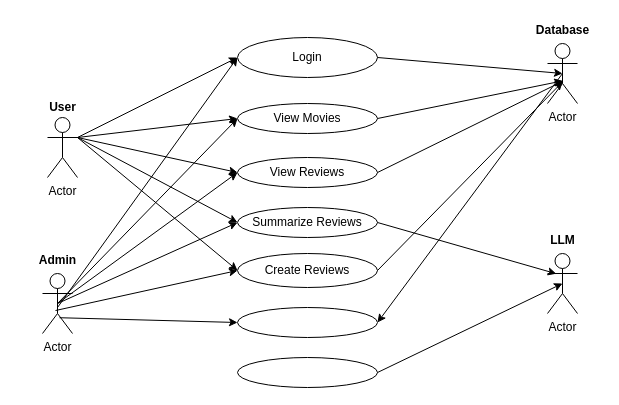
The diagram is 619 pixels wide and 405 high, and some of its shapes have lost their labels. Each missing label, with the centre of its shape:
"Retrieve Reviews" belongs at [307,372].
"Store Reviews" belongs at [307,322].
